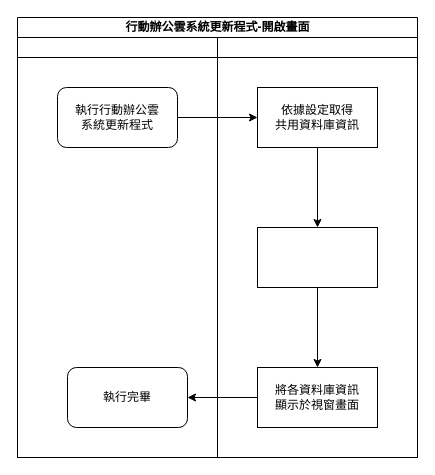
The diagram is 435 pixels wide and 475 high, and some of its shapes have lost their labels. Here are the shapes that lost their labels. From the top down, the box of each, then its label:
(16, 36, 218, 458): 維運人員
(216, 36, 418, 458): 行動辦公雲系統更新程式
(256, 226, 378, 288): 依據共用資料庫資訊 取得組織資料庫資訊
